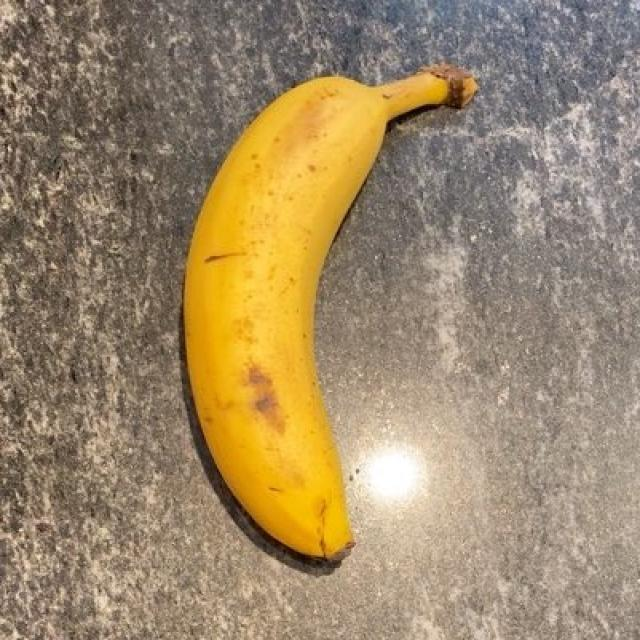banana: (183, 70, 481, 546)
